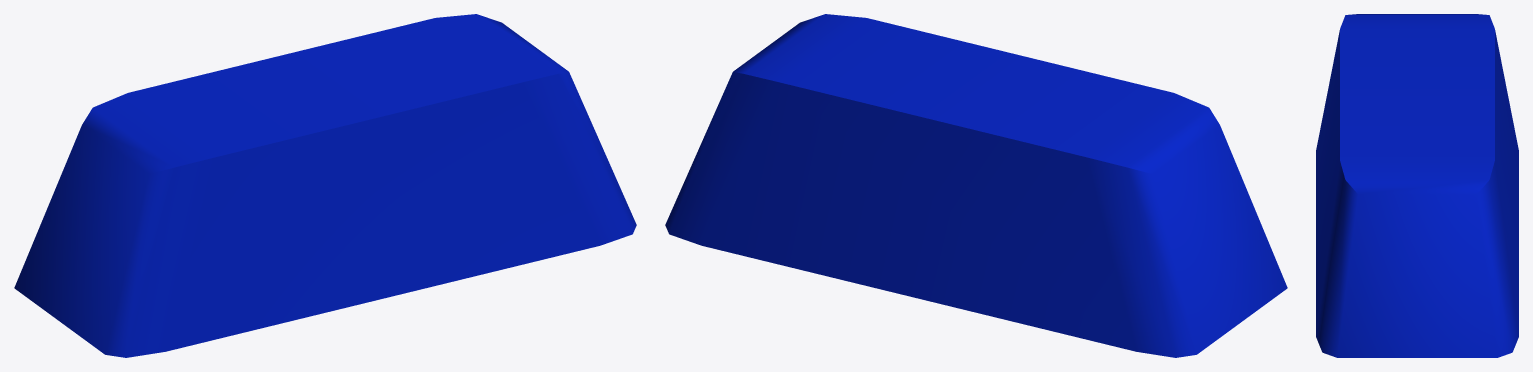
The picture shows the model from 3 angles, left to right: view 1: azimuth 30°, elevation 25°; view 2: azimuth 150°, elevation 25°; view 3: azimuth 270°, elevation 25°; orthographic projection. The views are drawn at different scales.
Parts seen in each view (by area): view 1: DiamondNugget; view 2: DiamondNugget; view 3: DiamondNugget.
Boxes of the visible parts, bbox=[...] form: DiamondNugget: bbox=[14, 14, 636, 357]; DiamondNugget: bbox=[665, 14, 1287, 357]; DiamondNugget: bbox=[1316, 14, 1518, 357].
Size of the model in its own units: 197 by 59.89 by 73.86.
